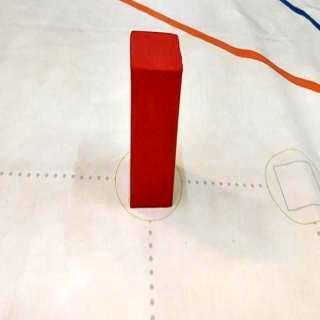redbox: (130, 28, 184, 208)
